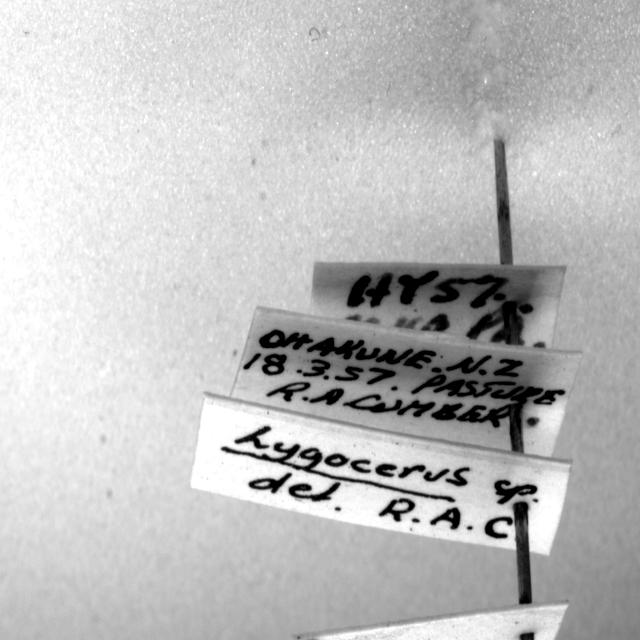hand_label: (190, 394, 571, 555), (231, 308, 581, 458), (310, 262, 565, 349)
